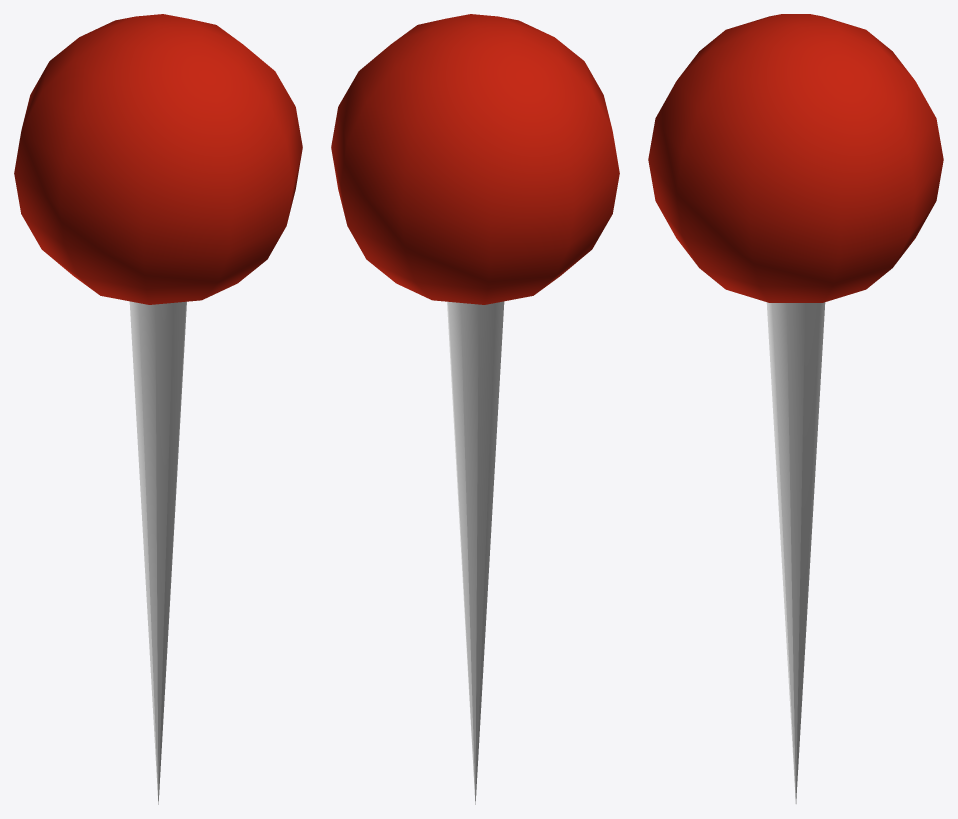
The model's file is Pin.glb.
The picture shows the model from 3 angles, left to right: view 1: azimuth 30°, elevation 25°; view 2: azimuth 150°, elevation 25°; view 3: azimuth 270°, elevation 25°; orthographic projection.
Parts seen in each view (by area): view 1: Pin; view 2: Pin; view 3: Pin.
Boxes of the visible parts, x1,y1,x2,y2 form: Pin: [14, 14, 302, 804]; Pin: [331, 14, 619, 804]; Pin: [648, 14, 943, 803].
Bounding box in the file's own units: 1.05 × 3.21 × 1.1.
